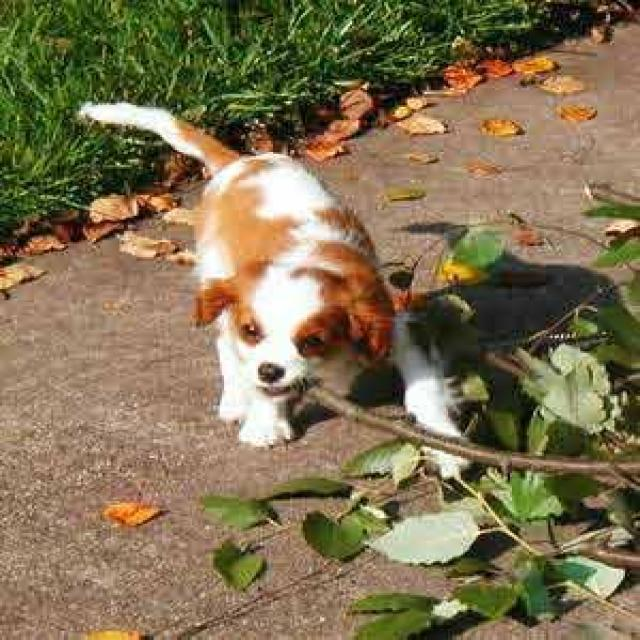blenheim_spaniel: (71, 92, 482, 482)
